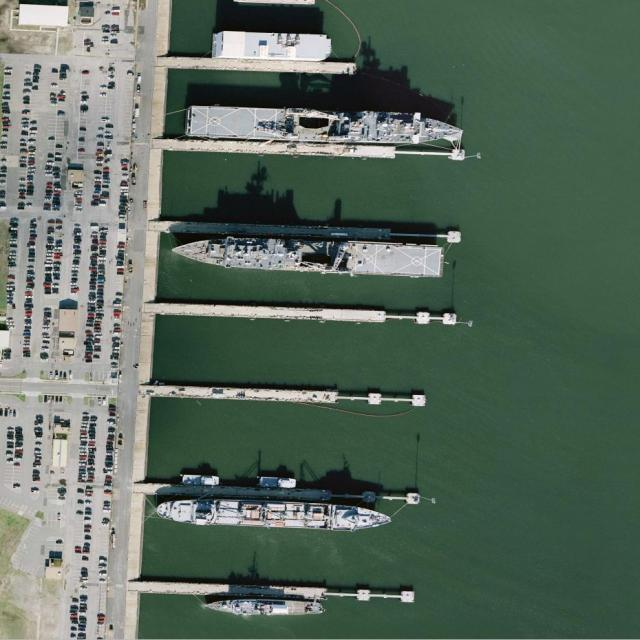Cargo: (153, 494, 393, 533)
Dock: (162, 217, 459, 243), (158, 301, 459, 325), (140, 579, 414, 604), (152, 383, 427, 407), (161, 140, 467, 161), (145, 481, 419, 503), (164, 53, 355, 76)
Landing: (182, 102, 465, 150), (170, 231, 444, 279)
Other Warship: (202, 597, 325, 618)
